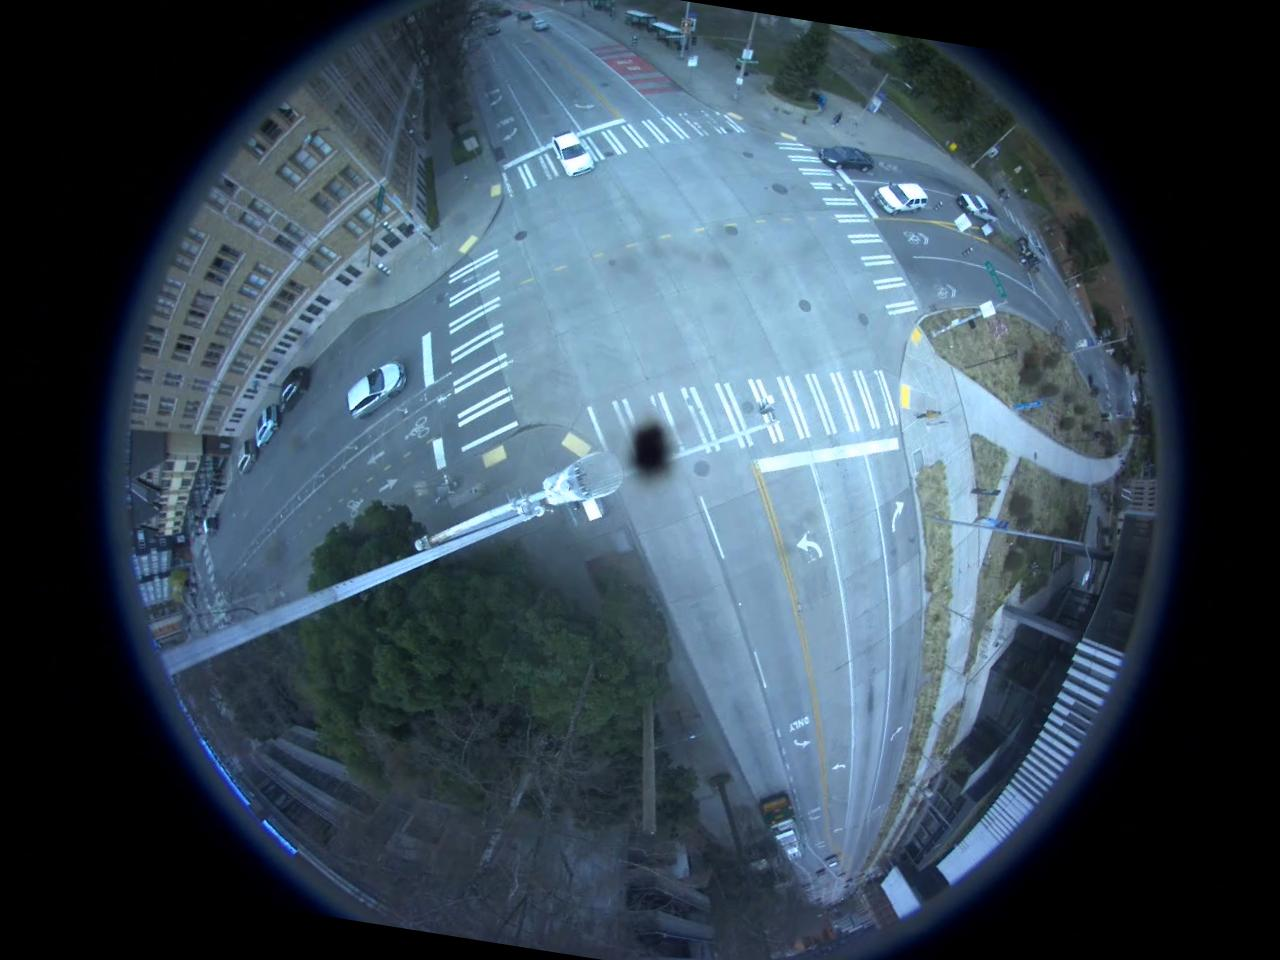bus: (752, 788, 811, 865)
car: (341, 355, 412, 426), (542, 126, 601, 180), (814, 139, 883, 182), (951, 188, 1006, 228), (875, 179, 929, 217), (254, 404, 281, 454), (278, 366, 304, 416), (234, 438, 260, 475), (530, 16, 555, 34)
person: (912, 406, 948, 427), (826, 106, 847, 131)
